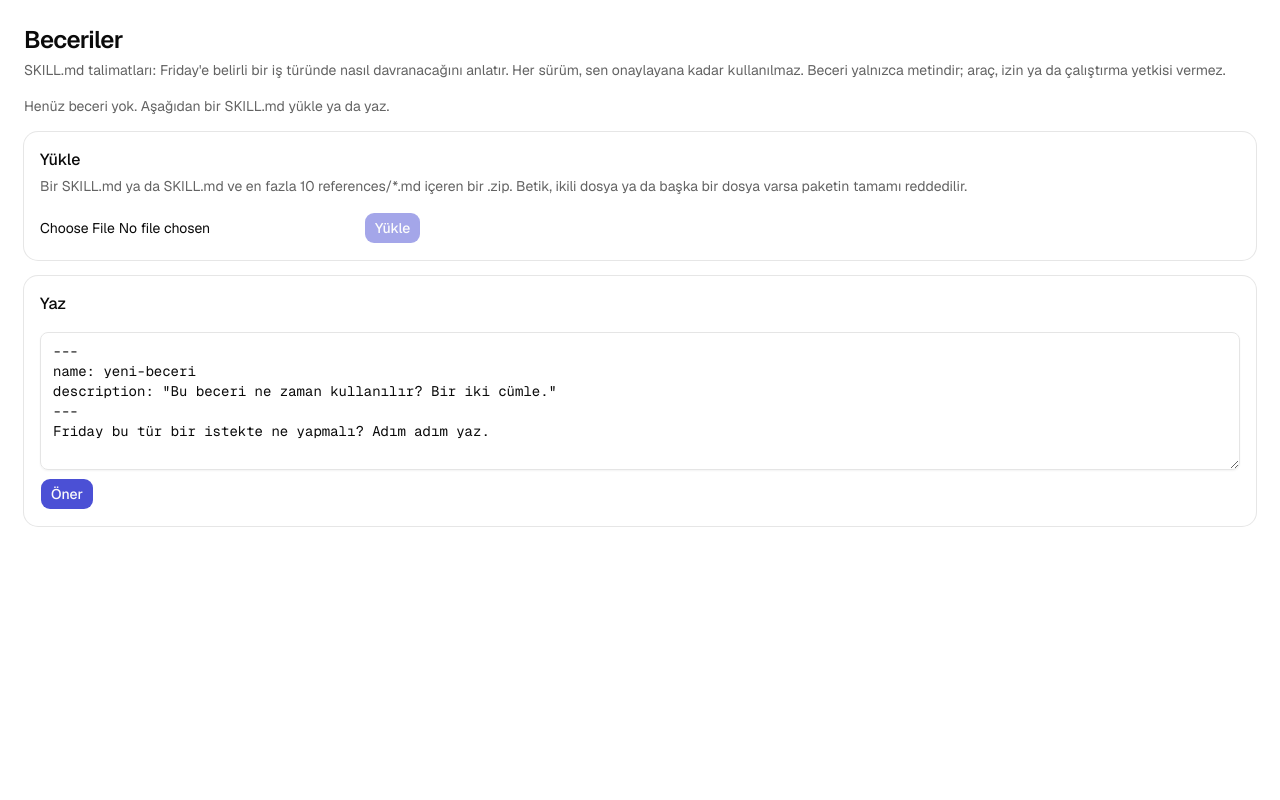
Test: SkillsView › shows the server's refusal
Expected: the text "Henüz beceri yok. Aşağıdan bir SKILL.md yükle ya da yaz." is shown, [24,97,389,115]
What coordinates should you click on to do the following:
click the button "Öner"
I would click on:
 (67, 494)
Its box is [40,478,94,510].
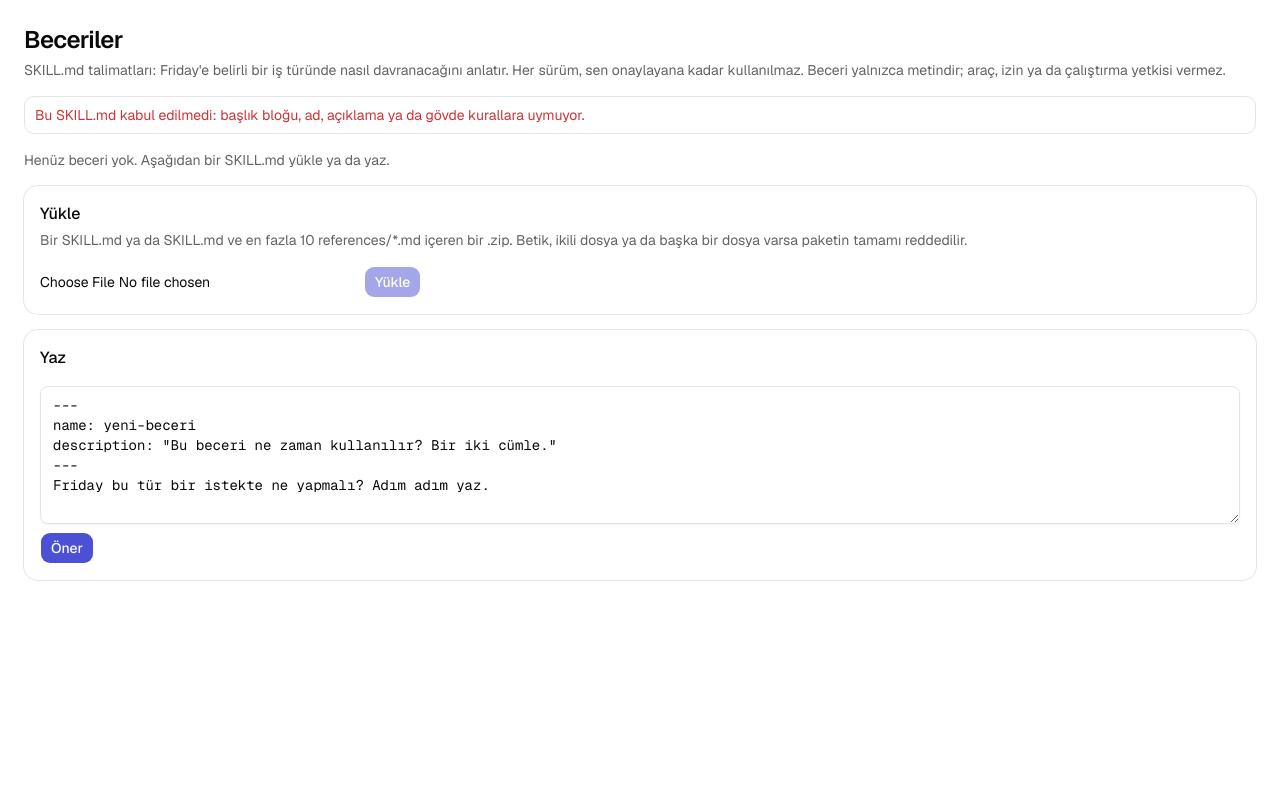
Now the text "SKILL.md kabul edilmedi" is shown, box [35,106,584,124]
